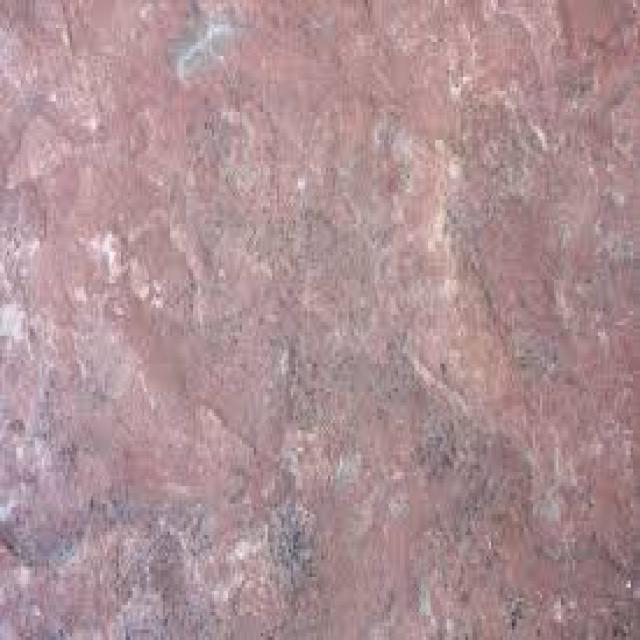Metamorphic: (5, 10, 635, 633)
